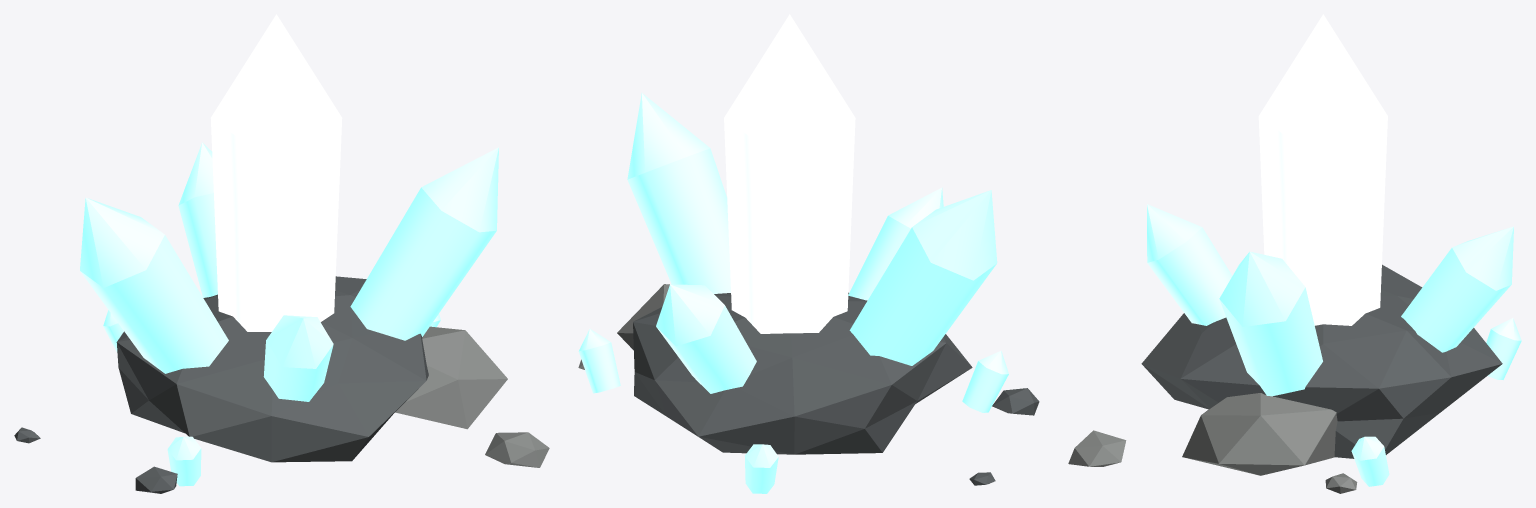
File: CrystalIce.glb
3 views of the same model, side by side, from view 1: azimuth 30°, elevation 25°; view 2: azimuth 150°, elevation 25°; view 3: azimuth 270°, elevation 25° (orthographic).
Parts seen in each view (by area): view 1: Glow, Body, GlowCore; view 2: Glow, GlowCore, Body; view 3: Body, GlowCore, Glow.
Boxes of the visible parts, x1=… form: Glow: x1=80, y1=142, x2=498, y2=486; Body: x1=14, y1=276, x2=549, y2=493; GlowCore: x1=210, y1=14, x2=342, y2=331; Glow: x1=578, y1=93, x2=1008, y2=493; GlowCore: x1=724, y1=14, x2=855, y2=333; Body: x1=578, y1=284, x2=1039, y2=485; Body: x1=1068, y1=264, x2=1502, y2=493; GlowCore: x1=1258, y1=14, x2=1387, y2=325; Glow: x1=1147, y1=204, x2=1521, y2=486.
Size of the model in its own units: 4.7 by 4.16 by 4.35.
3 materials, 1 textured.
